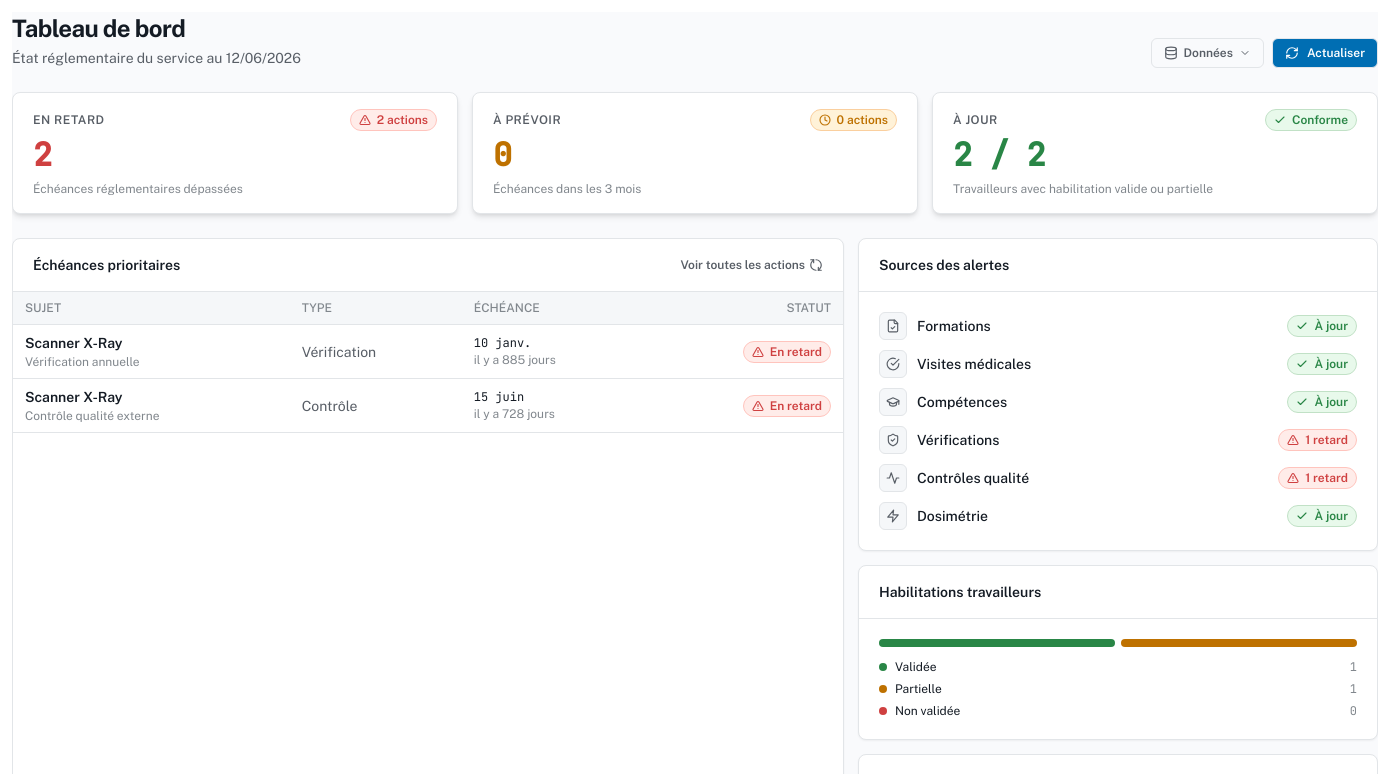
Scenario: Dashboard › should display Exporter and Importer options in Données menu
Click the button "Données": (1207, 53) [1151,38,1264,68]
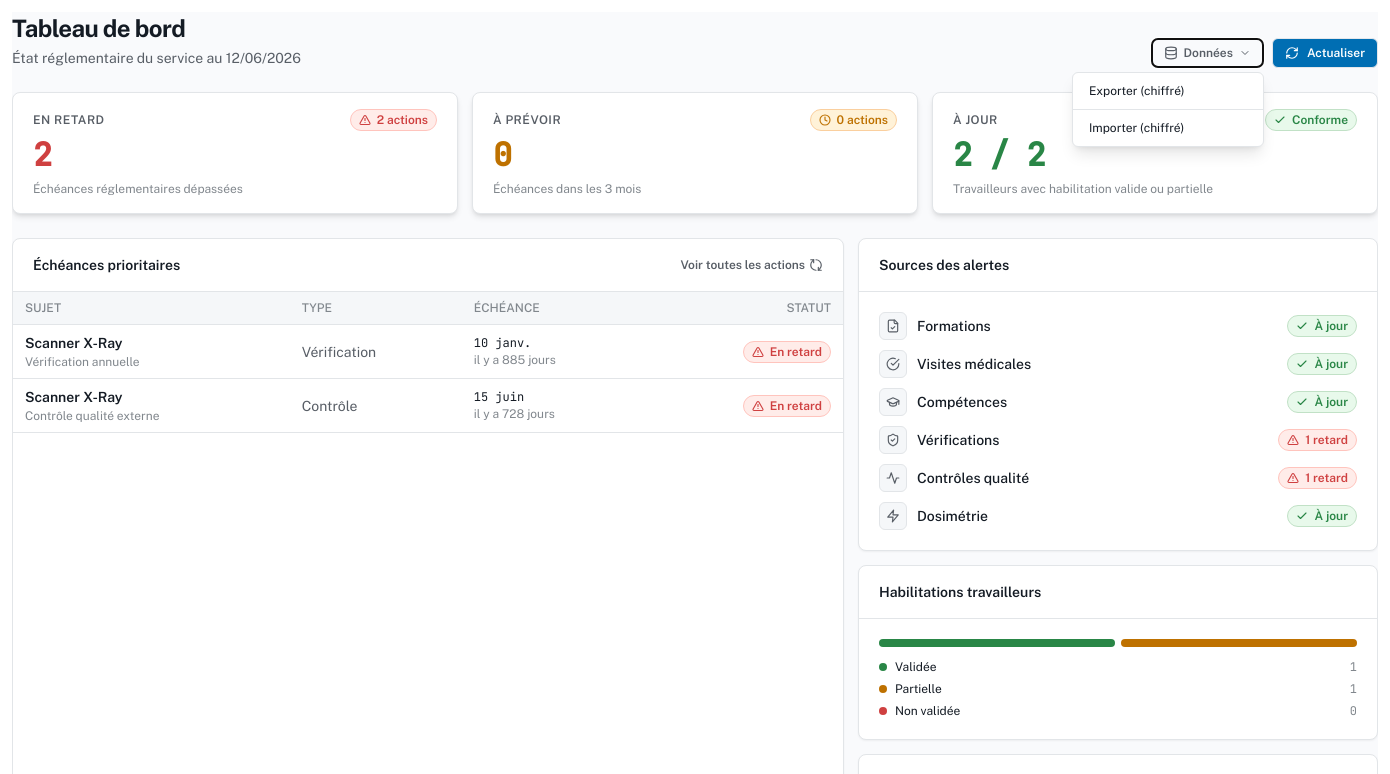
Now the button "Exporter (chiffré)" is shown, box [1073,73,1263,109]
Now the button "Importer (chiffré)" is shown, box [1073,109,1263,146]
